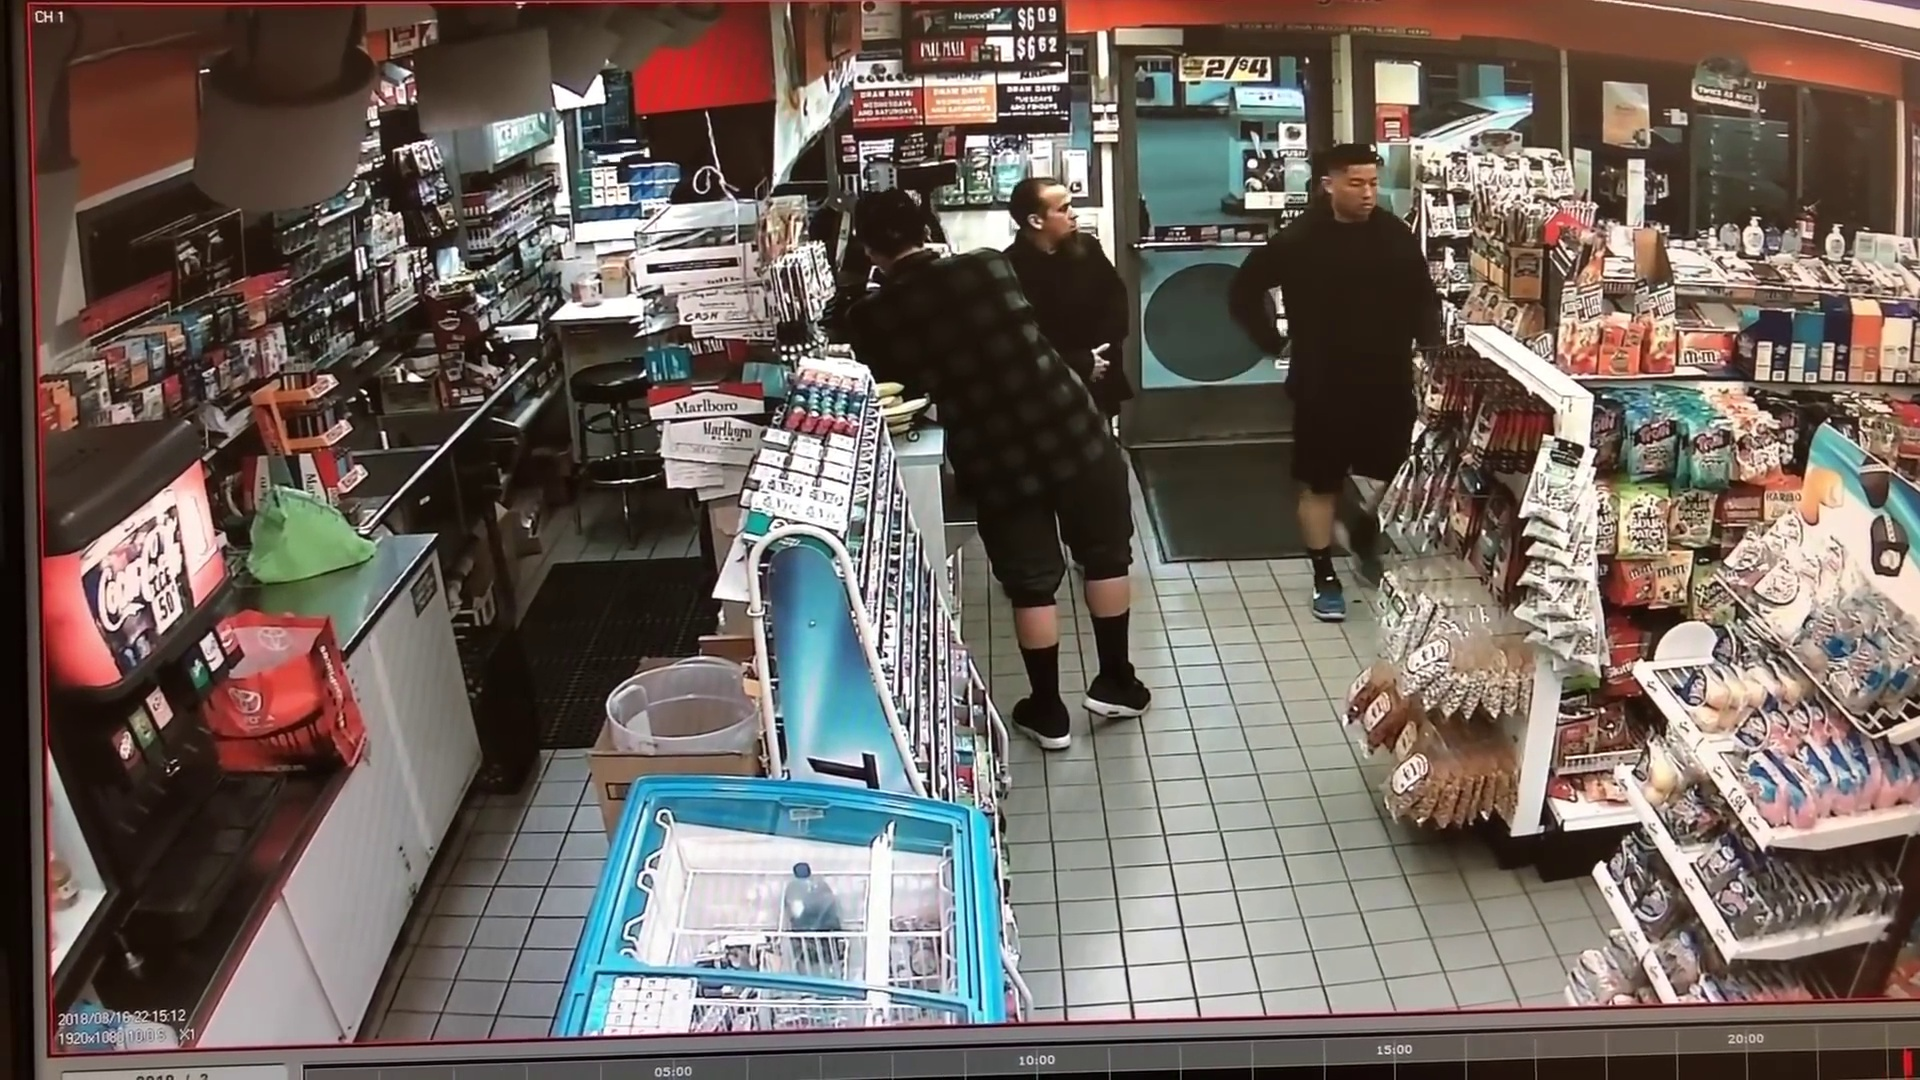face: (1333, 165, 1379, 217), (1036, 187, 1077, 242)
